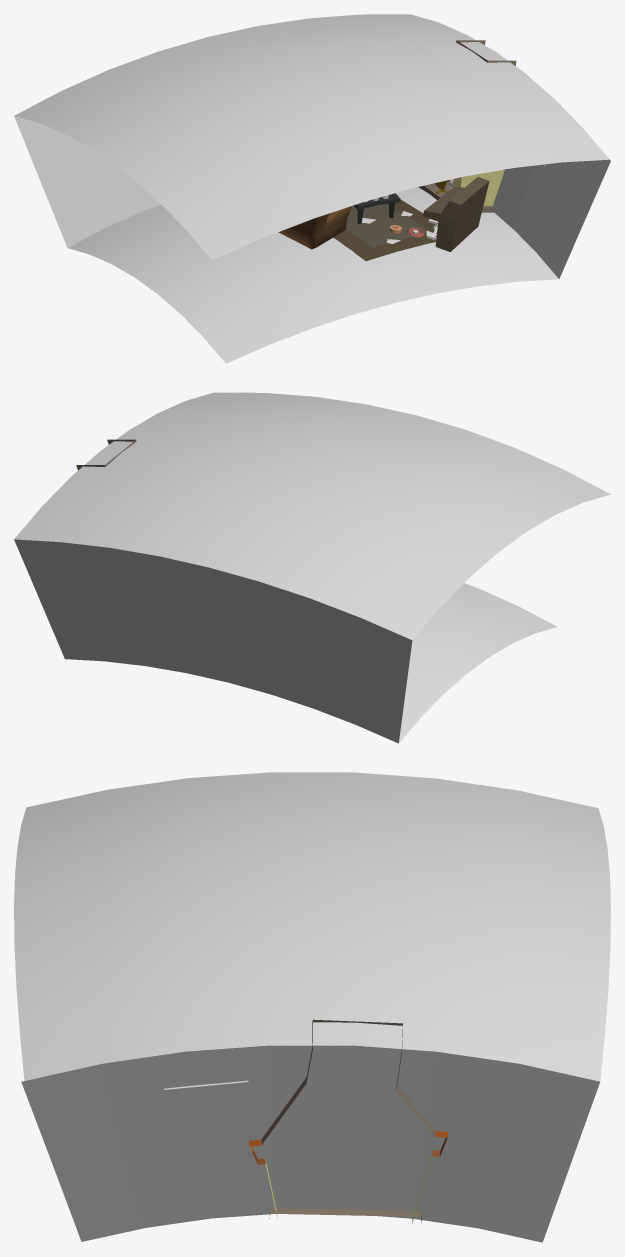
The picture shows the model from 3 angles, top to bottom: view 1: azimuth 30°, elevation 25°; view 2: azimuth 150°, elevation 25°; view 3: azimuth 270°, elevation 25°; orthographic projection. The views are drawn at different scales.
Parts seen in each view (by area): view 1: living room, carpet, piano, seat, chimney, table; view 2: living room; view 3: living room, wall frame 1, chimney.
Part boxes in pixels (<box>): living room: <box>14,14,610,363</box>; carpet: <box>333,199,436,260</box>; piano: <box>423,177,489,251</box>; seat: <box>278,206,351,249</box>; chimney: <box>418,40,516,212</box>; table: <box>353,193,400,223</box>; living room: <box>14,392,610,743</box>; living room: <box>14,772,610,1242</box>; wall frame 1: <box>164,1080,251,1132</box>; chimney: <box>249,1019,448,1223</box>.
Size of the model in its own units: 109 by 46.27 by 96.8.
Materials: 14 (13 with a texture image).
